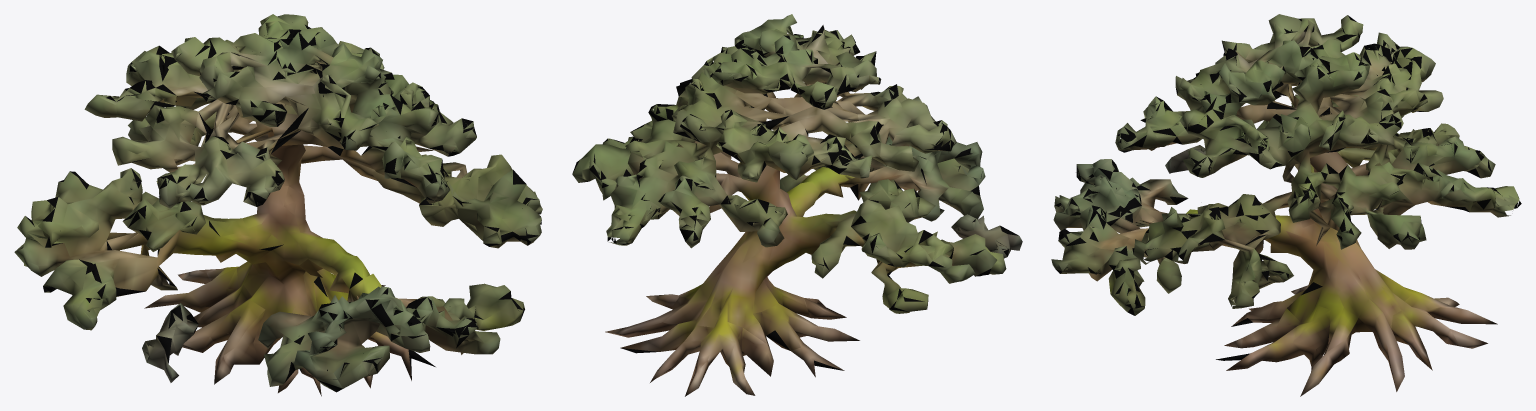
File: tree_fork.glb
3 renders of one model, left to right at view 1: azimuth 30°, elevation 25°; view 2: azimuth 150°, elevation 25°; view 3: azimuth 270°, elevation 25°, orthographic. The views are drawn at different scales.
Parts seen in each view (by area): view 1: MV_tree_fork; view 2: MV_tree_fork; view 3: MV_tree_fork.
Part boxes in pixels (left/top/right/bottom): MV_tree_fork: left=14, top=14, right=542, bottom=396; MV_tree_fork: left=572, top=14, right=1022, bottom=396; MV_tree_fork: left=1051, top=14, right=1521, bottom=396.
Size of the model in its own units: 8.87 by 6.2 by 9.04.
1 material, 1 textured.
